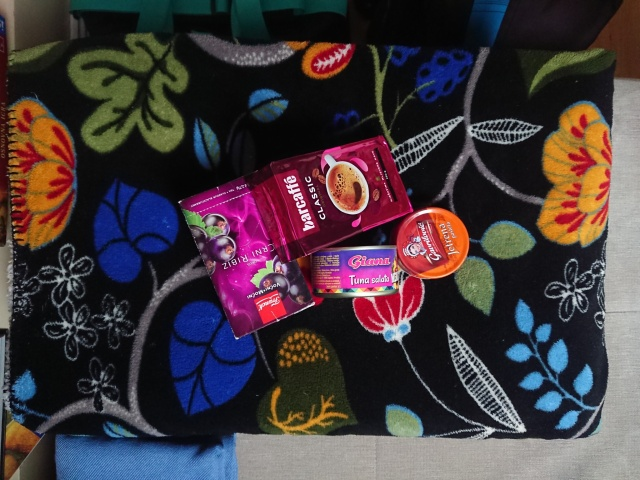Barcaffe Classic Original 225g: (241, 131, 416, 267)
Franck Black Currant Tea 60g: (173, 165, 318, 342)
Gavrilovic Pork Liver Pate 100g: (389, 205, 471, 282)
Giana Tuna Salad Mexico 185g: (310, 243, 402, 301)
